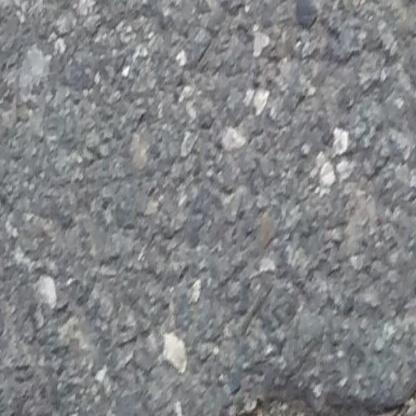Cracks: (206, 379, 416, 416)
